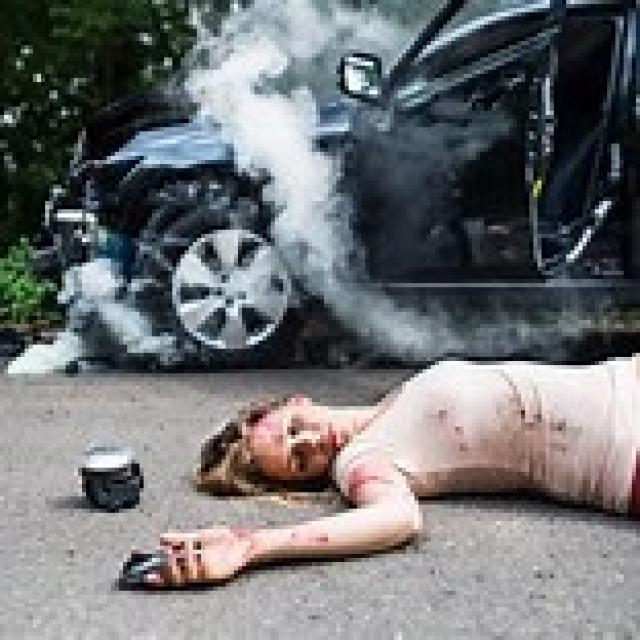Accident: (94, 17, 640, 509)
